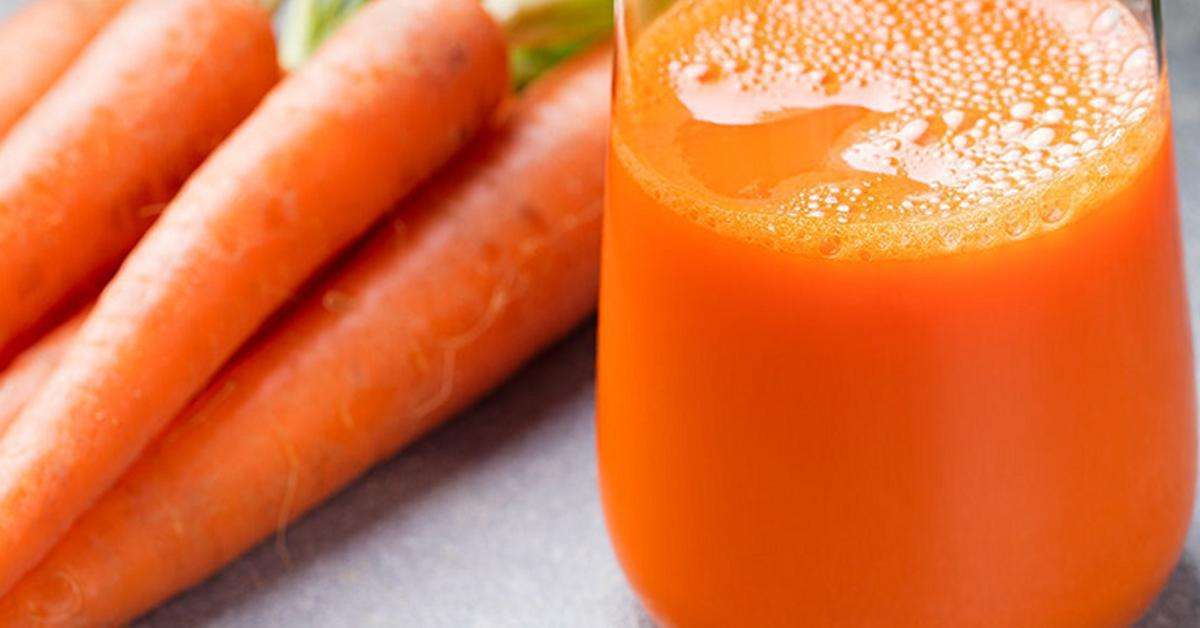carrot: (0, 0, 596, 600)
